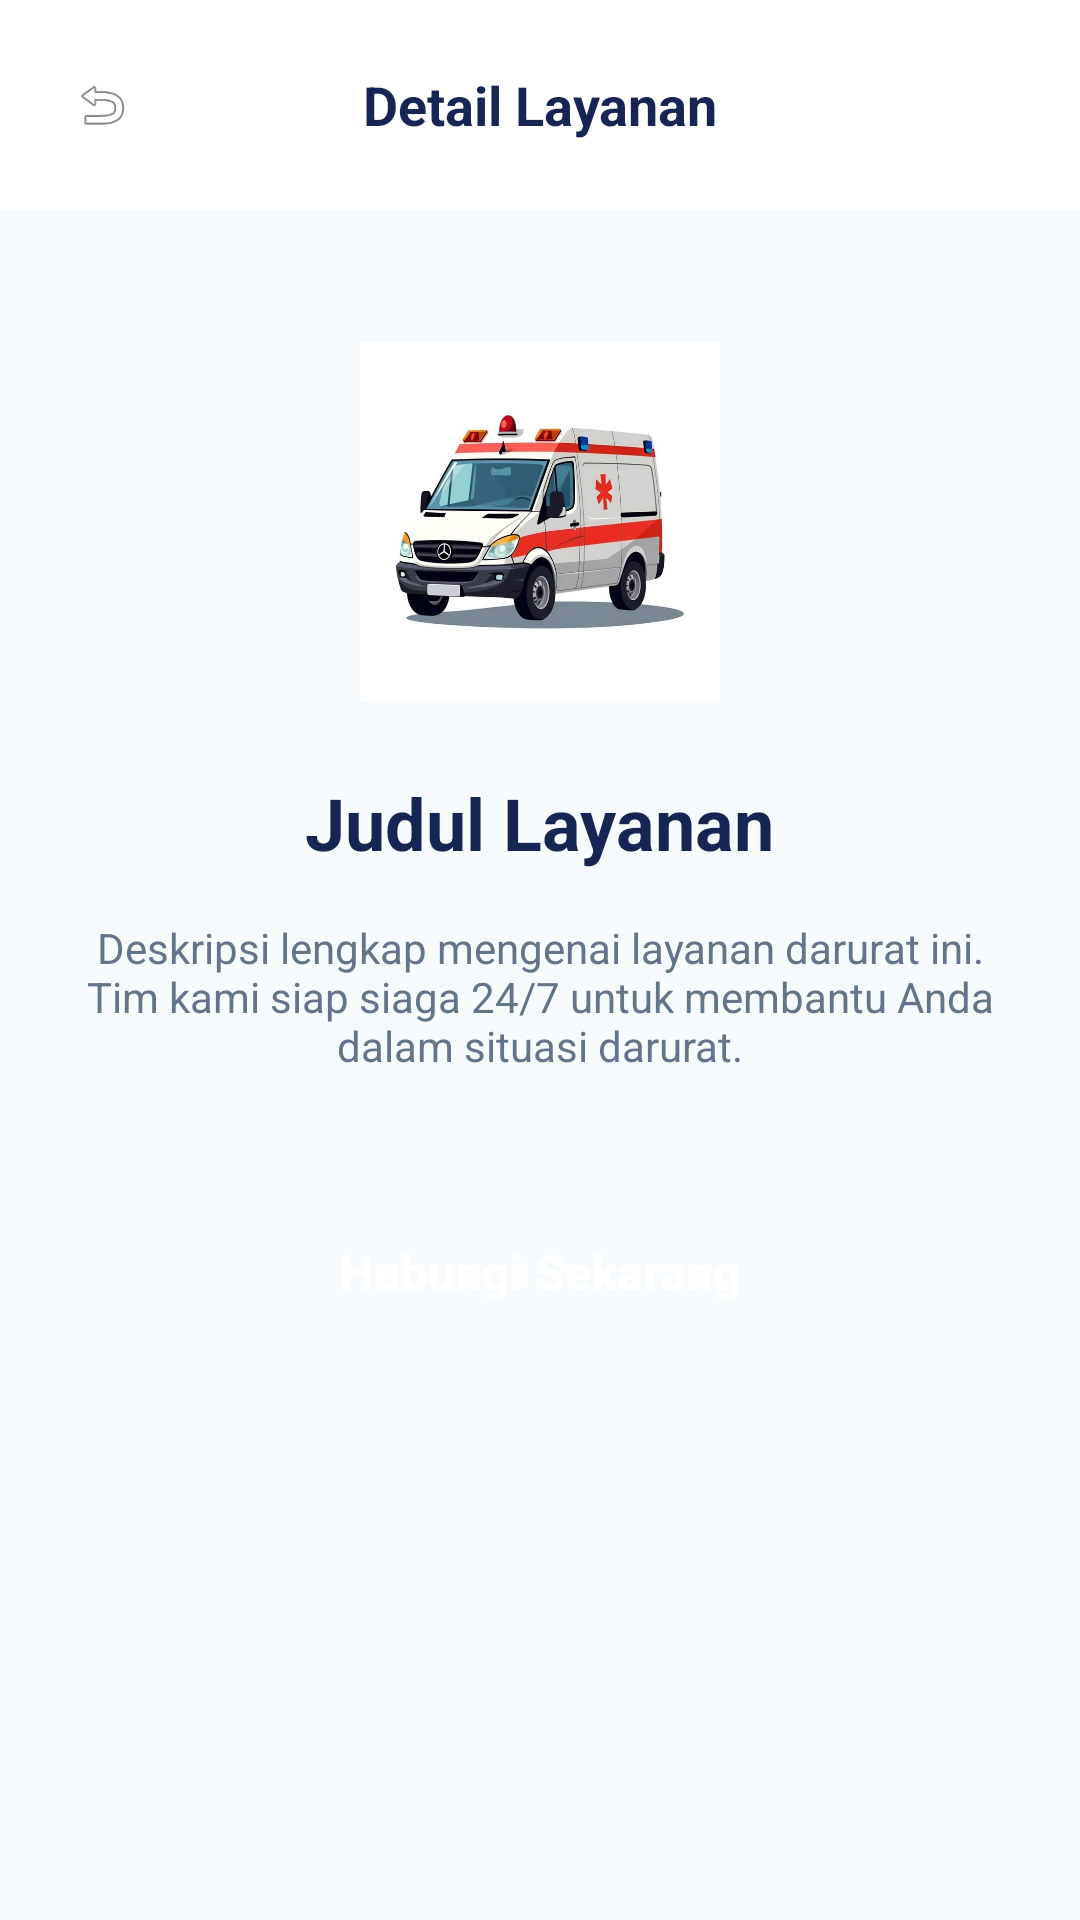

Icon click points for this 1080 x 1920 phone screenshot, format point (x, y):
Kembali: point (103, 105)
